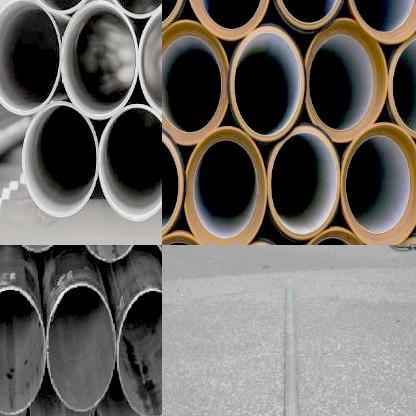pipe: (306, 18, 388, 144), (185, 125, 267, 245), (44, 283, 118, 414), (229, 24, 308, 142), (60, 0, 138, 118), (341, 123, 416, 245), (22, 102, 98, 218), (268, 124, 340, 241), (162, 20, 229, 145), (98, 104, 162, 221), (0, 0, 60, 114), (115, 284, 162, 416), (0, 285, 47, 416), (186, 0, 271, 39), (387, 29, 416, 139), (162, 123, 186, 245), (349, 0, 416, 43), (139, 3, 162, 121), (271, 0, 348, 31), (95, 394, 154, 416), (27, 397, 95, 416), (0, 382, 29, 416)
